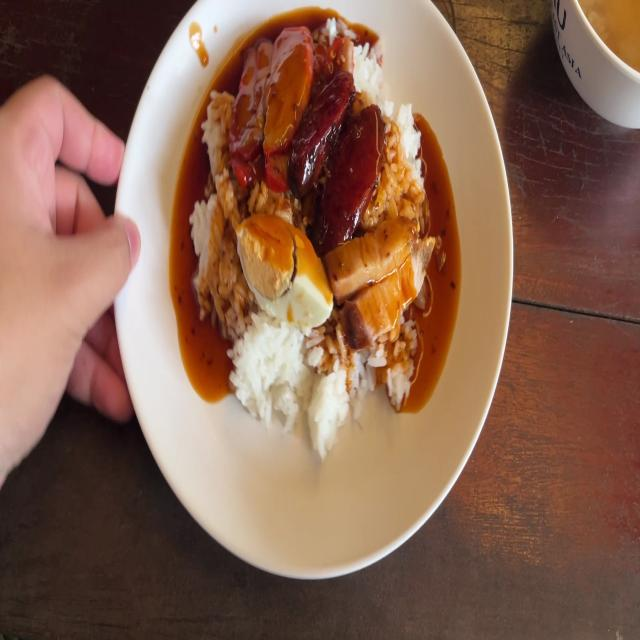01boiled_egg: (239, 219, 330, 320)
01chainese_sausage: (310, 65, 375, 235)
01crispy_pork: (331, 222, 438, 344)
01red_pork: (236, 31, 301, 170)
01red_pork_and_crispy_pork: (193, 32, 420, 453)
01rice: (233, 305, 295, 421), (307, 334, 363, 434), (192, 207, 234, 313)
